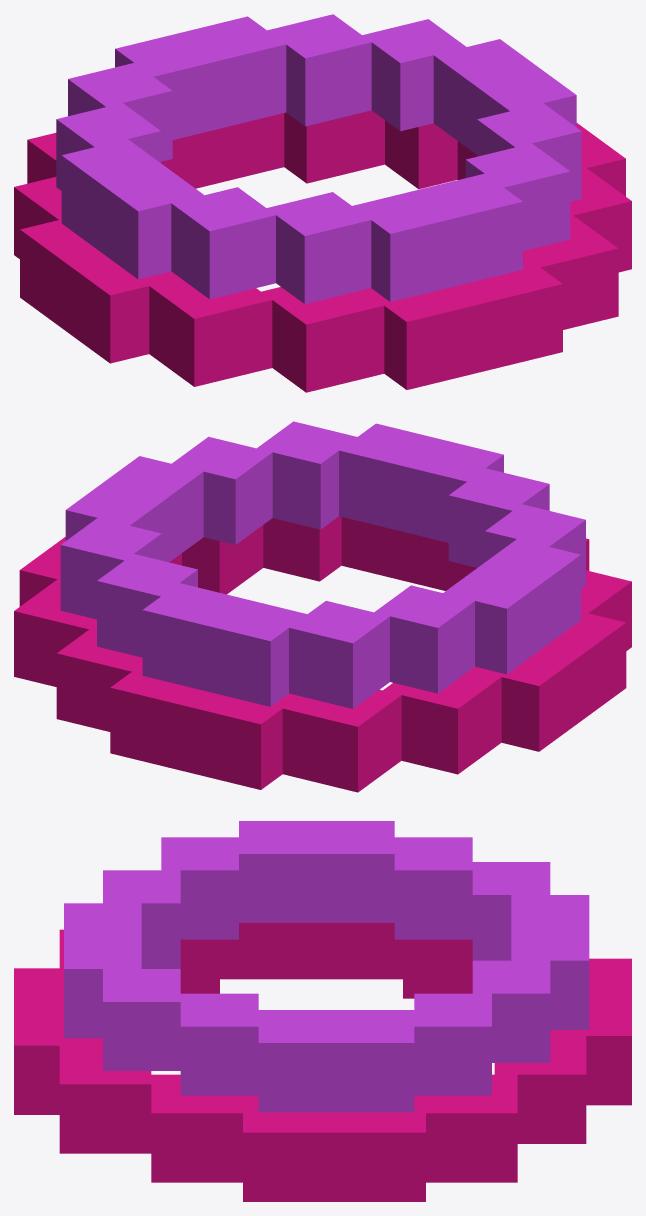
The model's file is portal.fbx.
The picture shows the model from 3 angles, top to bottom: view 1: azimuth 30°, elevation 25°; view 2: azimuth 150°, elevation 25°; view 3: azimuth 270°, elevation 25°; orthographic projection. The views are drawn at different scales.
Parts seen in each view (by area): view 1: Cube.001, Cube.030; view 2: Cube.001, Cube.030; view 3: Cube.001, Cube.030.
Boxes of the visible parts, bbox=[...] form: Cube.001: bbox=[56, 14, 581, 303]; Cube.030: bbox=[14, 110, 631, 392]; Cube.001: bbox=[60, 421, 585, 708]; Cube.030: bbox=[14, 516, 631, 792]; Cube.001: bbox=[64, 821, 589, 1112]; Cube.030: bbox=[14, 923, 631, 1201].
Size of the model in its own units: 1620 by 400 by 1620.
